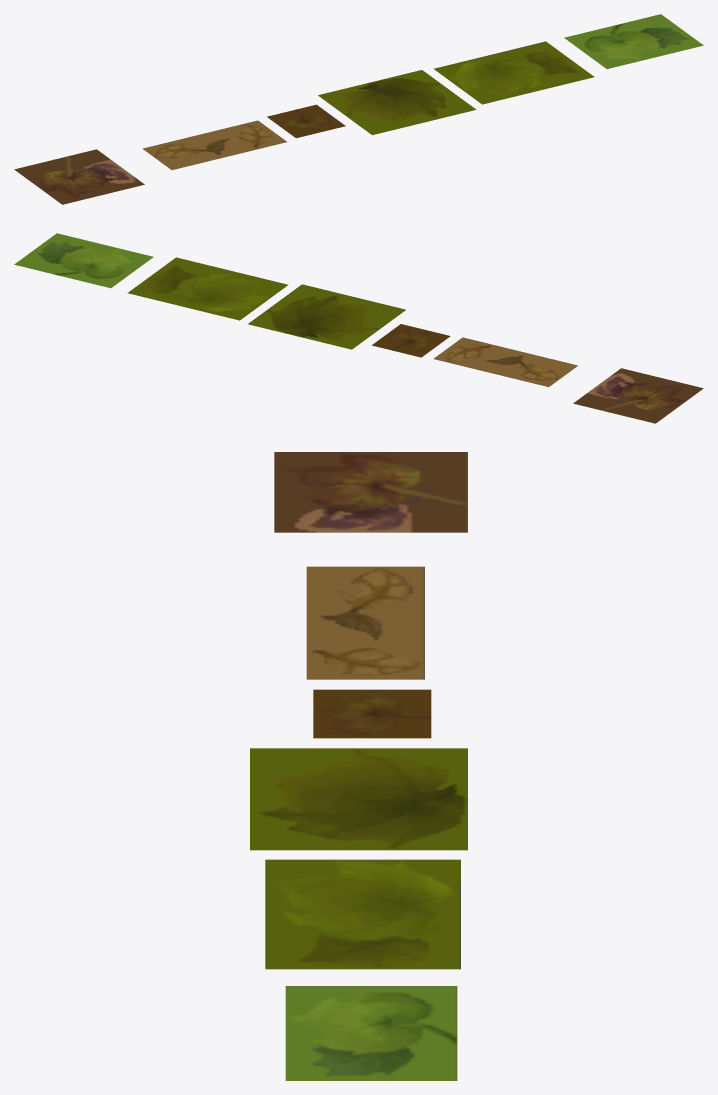
File: ZC_suiye01.FBX
3 renders of one model, top to bottom at view 1: azimuth 30°, elevation 25°; view 2: azimuth 150°, elevation 25°; view 3: azimuth 270°, elevation 25°, orthographic. The views are drawn at different scales.
Parts seen in each view (by area): view 1: ZC_suiye01_001, ZC_suiye01_002, ZC_suiye01_003, ZC_suiye01_006, ZC_suiye01_005, ZC_suiye01_004; view 2: ZC_suiye01_001, ZC_suiye01_002, ZC_suiye01_003, ZC_suiye01_006, ZC_suiye01_005, ZC_suiye01_004; view 3: ZC_suiye01_001, ZC_suiye01_002, ZC_suiye01_003, ZC_suiye01_006, ZC_suiye01_005, ZC_suiye01_004.
Boxes of the visible parts, bbox=[...] form: ZC_suiye01_001: bbox=[318, 70, 476, 135]; ZC_suiye01_002: bbox=[433, 41, 594, 104]; ZC_suiye01_003: bbox=[564, 14, 703, 68]; ZC_suiye01_006: bbox=[14, 149, 144, 204]; ZC_suiye01_005: bbox=[142, 120, 286, 169]; ZC_suiye01_004: bbox=[267, 104, 345, 138]; ZC_suiye01_001: bbox=[248, 284, 405, 349]; ZC_suiye01_002: bbox=[127, 257, 288, 320]; ZC_suiye01_003: bbox=[14, 233, 153, 288]; ZC_suiye01_006: bbox=[573, 368, 703, 423]; ZC_suiye01_005: bbox=[433, 337, 577, 386]; ZC_suiye01_004: bbox=[372, 324, 450, 357]; ZC_suiye01_001: bbox=[250, 748, 467, 850]; ZC_suiye01_002: bbox=[265, 859, 460, 969]; ZC_suiye01_003: bbox=[285, 986, 457, 1080]; ZC_suiye01_006: bbox=[274, 452, 467, 532]; ZC_suiye01_005: bbox=[306, 566, 424, 679]; ZC_suiye01_004: bbox=[313, 689, 431, 738].
Size of the model in its own units: 893 by 5.73e-06 by 131.
Materials: 1 (1 with a texture image).
